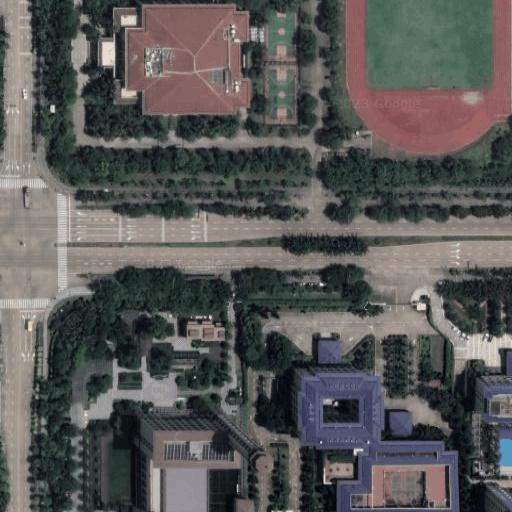building: (293, 375, 460, 512), (127, 8, 251, 110), (99, 8, 143, 109), (141, 411, 231, 448), (141, 447, 192, 493), (130, 491, 183, 512), (326, 447, 355, 483), (479, 481, 511, 511), (483, 375, 512, 407), (389, 411, 417, 443), (187, 321, 224, 340), (320, 349, 343, 376), (140, 329, 156, 351), (237, 496, 253, 512), (219, 412, 236, 427), (507, 351, 512, 376)
